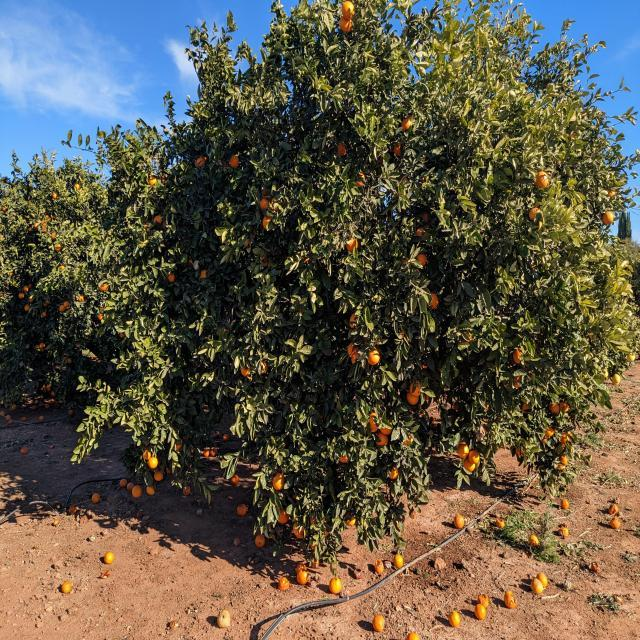Jeruk Sudah Matang: (458, 330, 474, 348), (262, 212, 276, 232), (398, 324, 412, 344), (424, 292, 439, 310), (350, 312, 364, 331), (536, 171, 550, 190), (339, 17, 354, 34), (415, 228, 430, 245), (272, 472, 286, 490), (293, 518, 305, 539), (342, 1, 355, 20), (379, 418, 393, 435), (367, 348, 381, 365), (276, 508, 290, 524), (392, 140, 406, 156), (529, 207, 543, 223), (240, 359, 253, 376), (344, 510, 357, 527), (310, 508, 322, 526), (368, 411, 380, 429), (410, 379, 422, 397), (318, 520, 331, 536), (401, 118, 414, 134), (354, 170, 366, 187), (291, 484, 303, 501), (339, 447, 351, 464), (514, 347, 526, 364), (308, 538, 322, 552), (350, 352, 364, 366), (520, 402, 534, 416), (346, 342, 359, 357), (468, 450, 481, 465), (218, 158, 230, 174), (272, 196, 284, 212), (260, 251, 272, 267), (256, 358, 268, 374), (402, 430, 414, 446), (346, 236, 358, 252), (415, 252, 427, 268), (418, 360, 430, 376), (375, 432, 388, 446), (199, 269, 211, 284), (259, 196, 271, 211), (270, 498, 282, 513), (388, 464, 400, 479), (399, 256, 411, 271), (458, 443, 470, 458), (513, 374, 525, 389), (366, 420, 380, 432), (602, 211, 614, 225), (566, 126, 578, 140), (336, 141, 347, 156), (421, 214, 432, 229), (516, 442, 526, 458), (98, 279, 110, 292), (406, 392, 419, 404), (464, 459, 476, 472), (549, 401, 560, 415), (478, 418, 489, 431), (304, 254, 314, 268), (298, 301, 308, 315), (140, 224, 150, 237), (242, 235, 252, 248), (560, 454, 570, 467), (588, 328, 598, 341), (168, 270, 177, 284), (230, 154, 239, 168), (154, 214, 162, 229), (148, 456, 158, 468), (456, 436, 466, 448), (500, 377, 510, 389), (559, 402, 569, 414), (560, 434, 570, 446), (529, 260, 539, 272), (148, 176, 158, 187), (142, 449, 152, 460), (626, 351, 636, 362), (162, 172, 171, 184), (159, 271, 168, 283), (485, 401, 494, 413), (527, 370, 536, 382), (609, 188, 618, 200), (197, 154, 205, 167), (262, 185, 270, 198), (302, 523, 310, 536), (540, 434, 550, 444), (154, 470, 163, 481), (497, 412, 506, 423), (557, 461, 566, 472), (175, 437, 183, 449), (546, 426, 554, 438), (580, 370, 588, 382), (424, 390, 433, 400), (248, 228, 256, 239), (505, 365, 513, 376), (614, 372, 622, 383), (188, 256, 195, 268), (132, 298, 140, 308), (210, 448, 218, 458), (568, 430, 576, 440), (74, 182, 81, 192), (602, 368, 609, 378), (194, 157, 200, 168), (99, 302, 107, 310), (406, 407, 414, 415), (612, 376, 620, 384), (59, 304, 66, 313), (54, 243, 61, 251), (78, 294, 84, 303), (204, 448, 210, 457), (416, 401, 422, 410), (52, 191, 58, 199), (42, 219, 48, 227), (23, 285, 29, 293), (24, 304, 30, 312), (40, 384, 46, 392), (64, 300, 70, 308), (98, 312, 104, 320), (204, 156, 209, 165), (2, 205, 8, 212), (34, 344, 40, 351), (46, 384, 52, 391), (119, 331, 125, 338), (60, 265, 65, 273), (29, 296, 34, 304), (63, 352, 68, 360), (18, 292, 24, 298), (46, 297, 52, 303), (51, 390, 57, 396), (190, 447, 196, 453), (76, 342, 81, 349), (44, 300, 48, 308), (52, 214, 57, 220), (34, 222, 39, 228), (43, 228, 48, 234), (42, 312, 47, 318), (40, 343, 46, 348), (28, 225, 32, 232), (52, 232, 56, 239), (40, 348, 45, 353), (0, 291, 4, 297), (42, 293, 46, 299), (68, 358, 72, 364), (45, 214, 48, 220), (10, 270, 13, 276), (48, 218, 52, 222), (29, 283, 32, 288)
